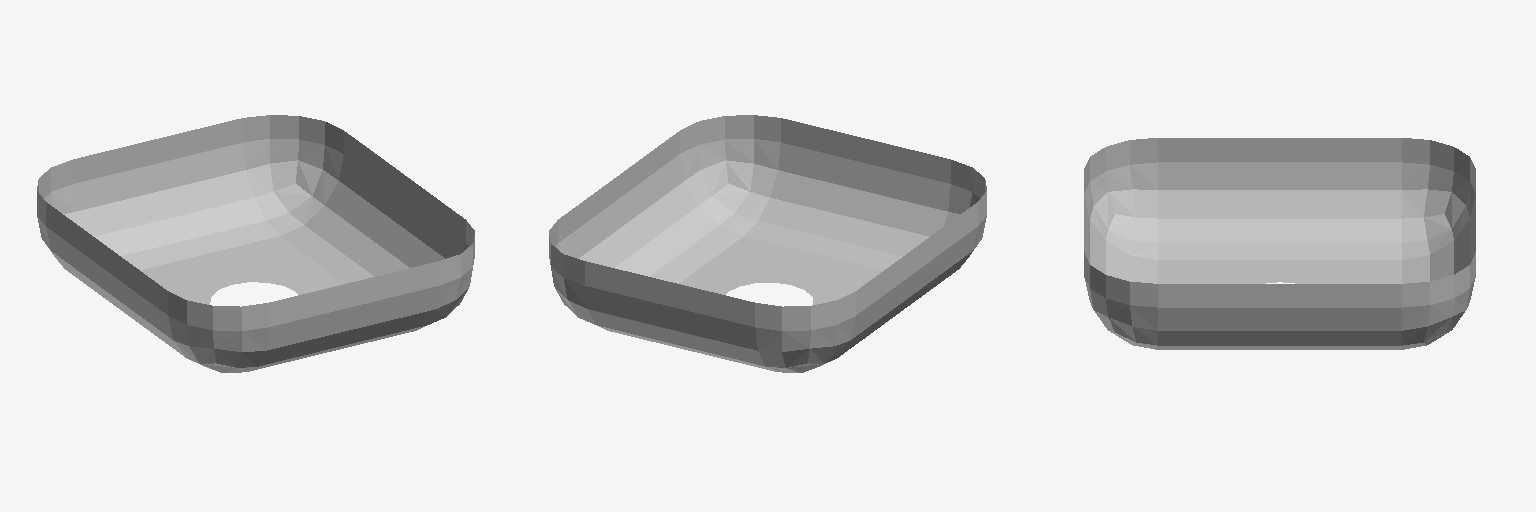
File: cube_box_base_with_hole.obj
The picture shows the model from 3 angles: view 1: azimuth 30°, elevation 25°; view 2: azimuth 150°, elevation 25°; view 3: azimuth 270°, elevation 25°; orthographic projection.
Visible parts, largest first — view 1: cube_box_base_with_hole; view 2: cube_box_base_with_hole; view 3: cube_box_base_with_hole.
Boxes of the visible parts, box(x1,y1,x2,y2) form: cube_box_base_with_hole: box(37, 115, 474, 372); cube_box_base_with_hole: box(549, 115, 986, 372); cube_box_base_with_hole: box(1084, 138, 1475, 349).
Size of the model in its own units: 8.28 by 2.43 by 9.44.